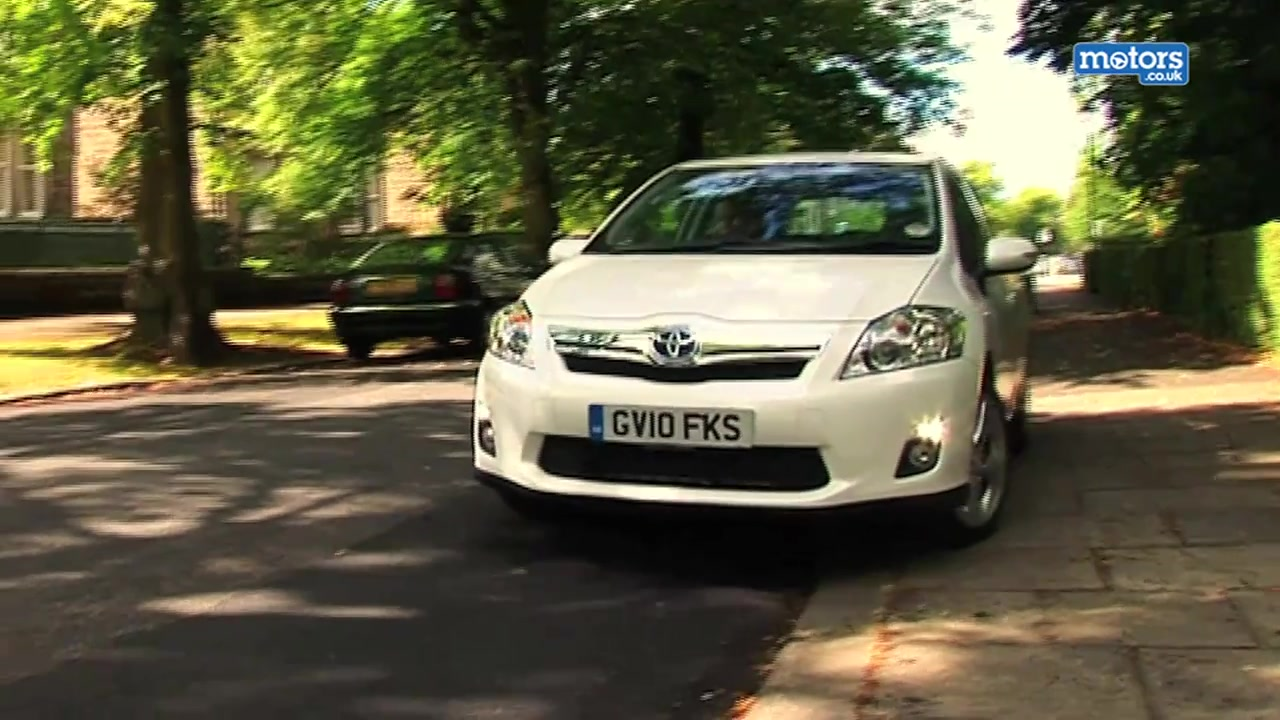car: (471, 156, 1051, 549), (325, 230, 529, 367)
